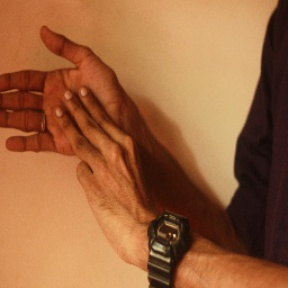M: (1, 19, 136, 185)
